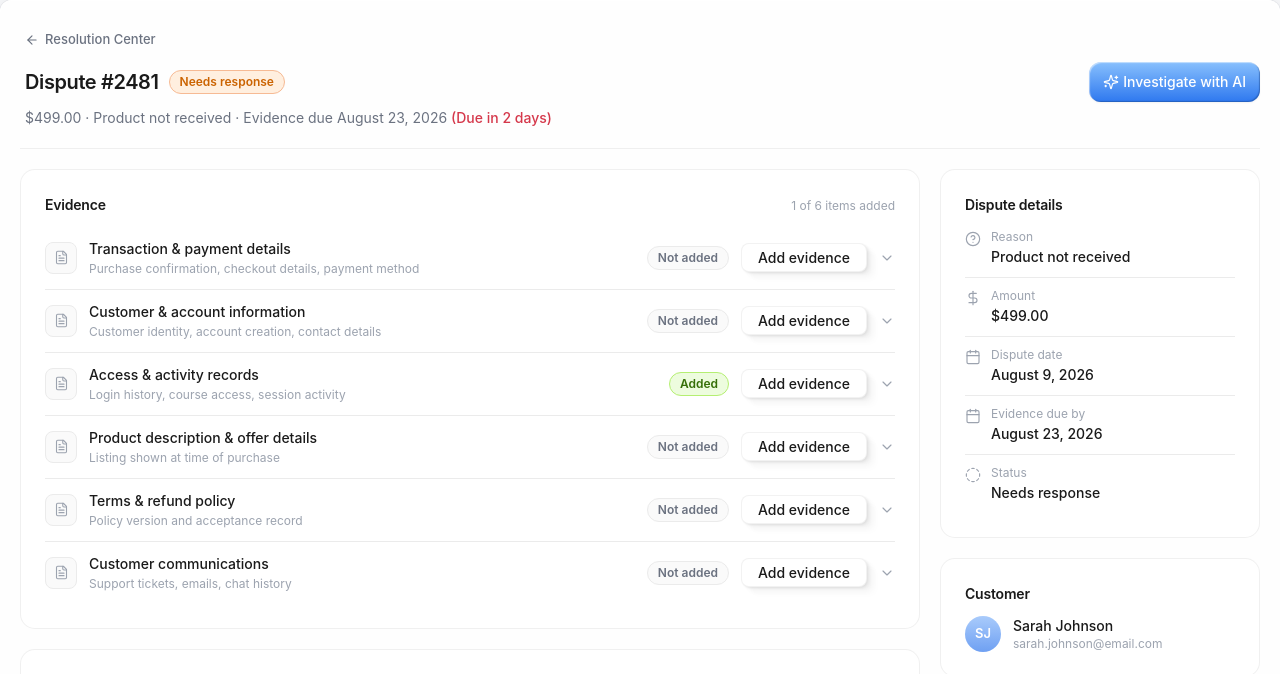
Evidence checklist accordion › clicking an entry opens the Evidence Detail modal with title, record, and attachments — never a 'Why it matters' section
This screenshot has width=1280, height=674.
Click the text "Access & activity records" at (174, 374), box [89,366,259,382]
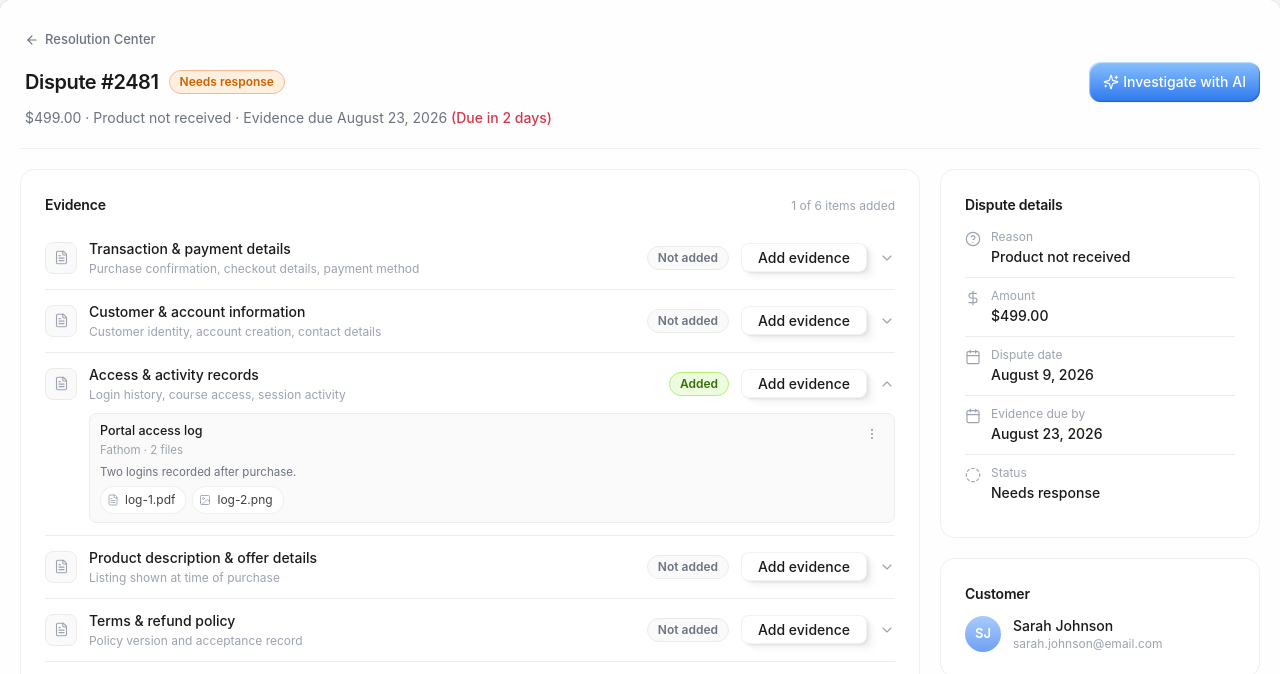
Click the text "Portal access log" at (151, 431), box [100,422,202,440]
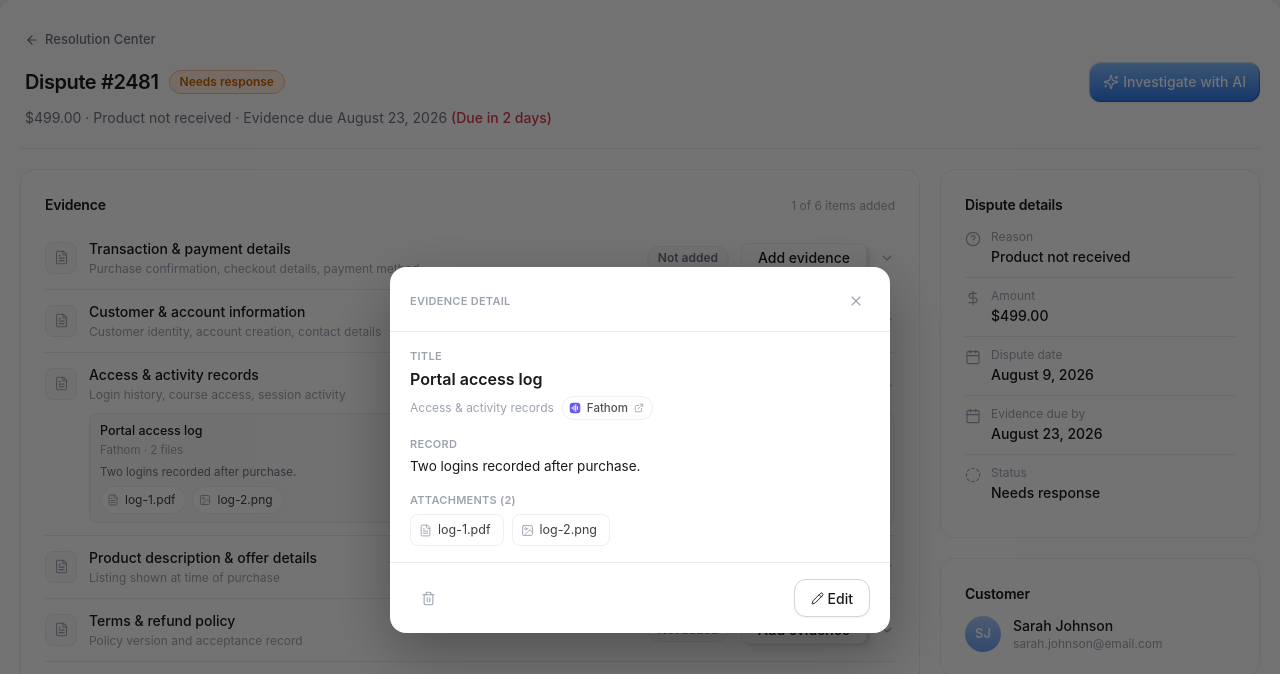
Check: the 1st text "Two logins recorded after purchase." is shown, box [100,464,296,478]
Check: the 1st text "log-1.pdf" is shown, box [125,490,176,508]
Check: the text "Evidence detail" is shown, box [410,292,510,309]
